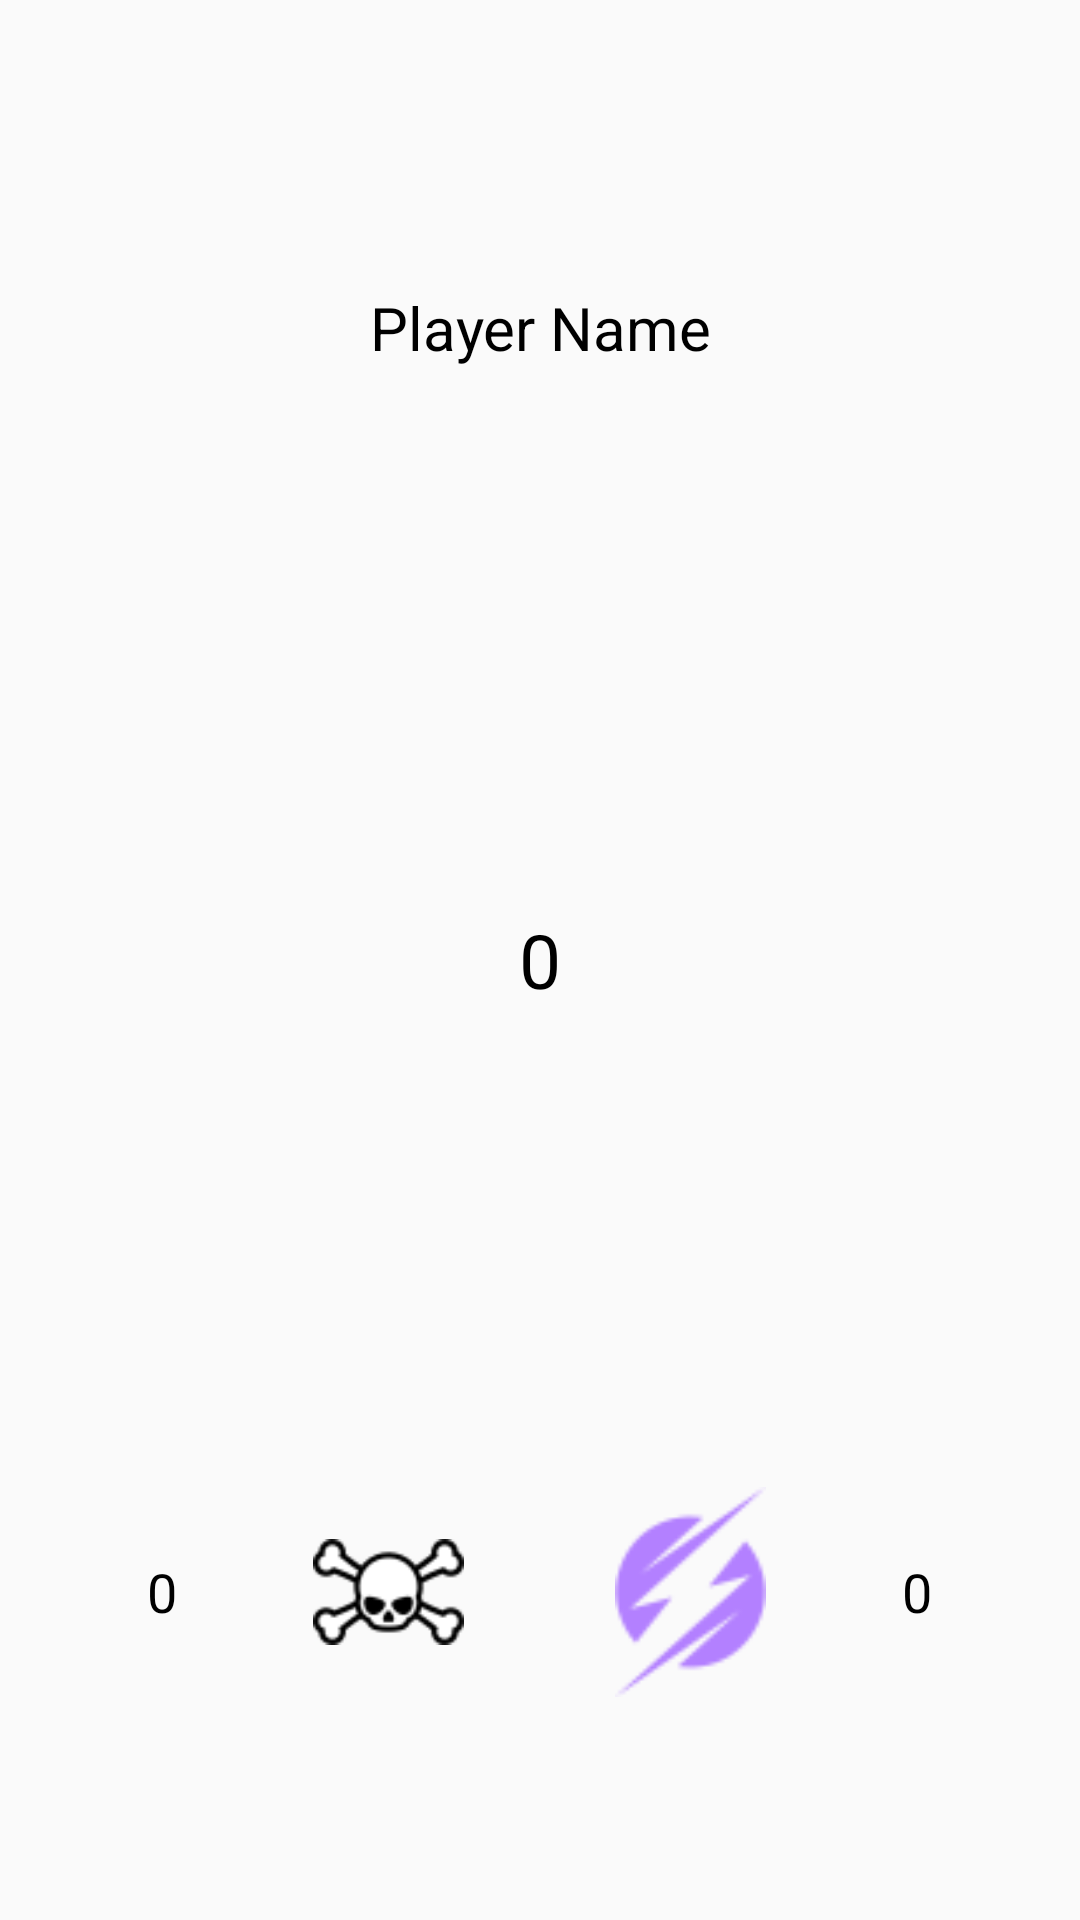

Where icons sit on this 1080 x 1920 app screen, as {"x1": x1, "y1": y1, "x2": x2, "y2": y2}:
counter energy: {"x1": 615, "y1": 1491, "x2": 766, "y2": 1693}
counter poison: {"x1": 313, "y1": 1539, "x2": 464, "y2": 1645}
